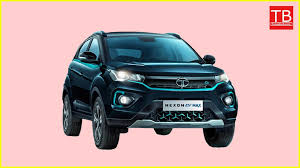Tata Nexon: (58, 29, 239, 152)
